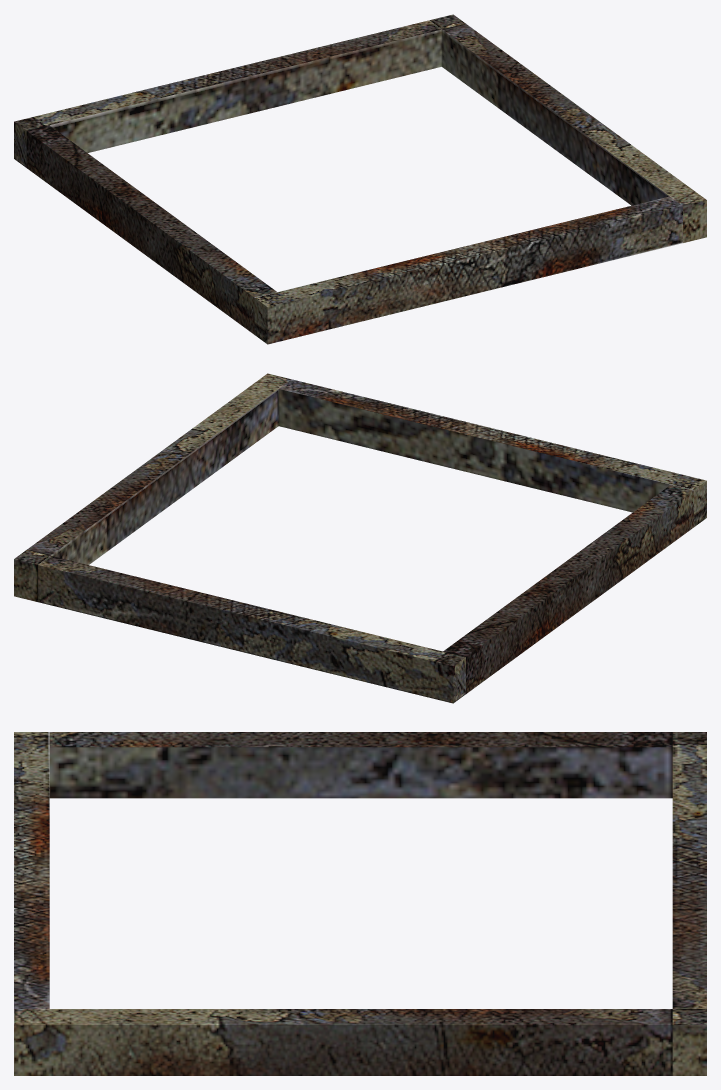
Rendered from Prop_AM_PressurePlateBase_A.fbx.
3 renders of one model, top to bottom at view 1: azimuth 30°, elevation 25°; view 2: azimuth 150°, elevation 25°; view 3: azimuth 270°, elevation 25°, orthographic. The views are drawn at different scales.
Visible parts, largest first — view 1: Prop_AM_PressurePlateBase_; view 2: Prop_AM_PressurePlateBase_; view 3: Prop_AM_PressurePlateBase_.
Boxes of the visible parts, left/top/right/bottom form: Prop_AM_PressurePlateBase_: left=14, top=14, right=706, bottom=344; Prop_AM_PressurePlateBase_: left=14, top=373, right=706, bottom=703; Prop_AM_PressurePlateBase_: left=14, top=732, right=706, bottom=1075.
Bounding box in the file's own units: 1 × 0.081 × 1.
Materials: 1 (1 with a texture image).
